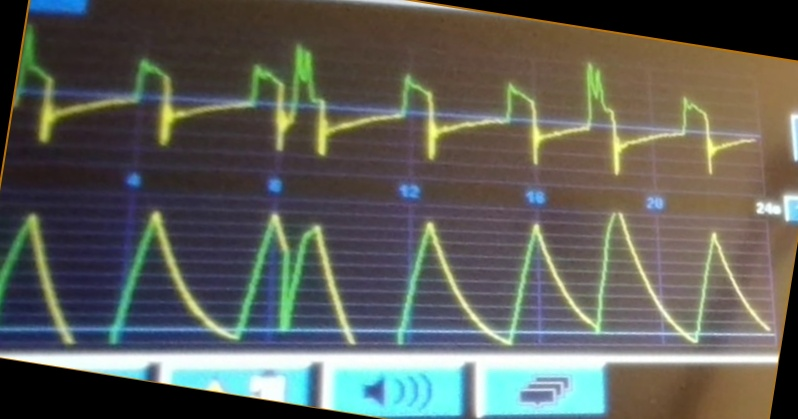Double_Triggering Flow: (23, 24, 626, 176)
Double_Triggering Volume: (16, 206, 697, 344)
